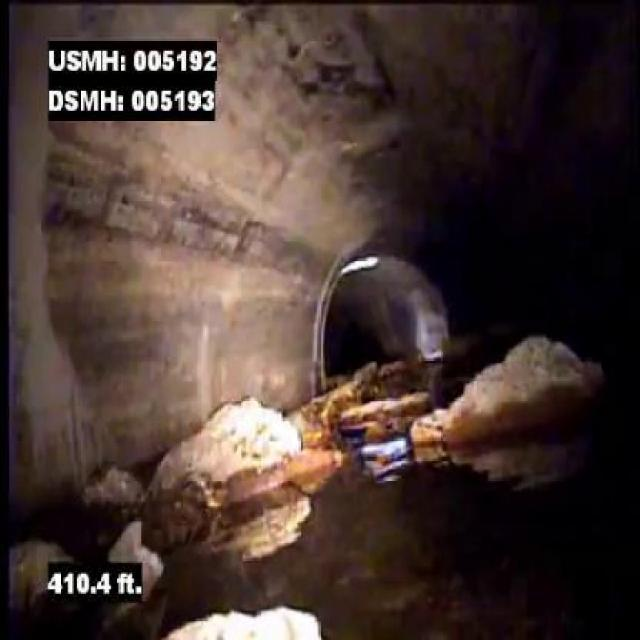Debris: (134, 388, 306, 522), (408, 328, 598, 448)
